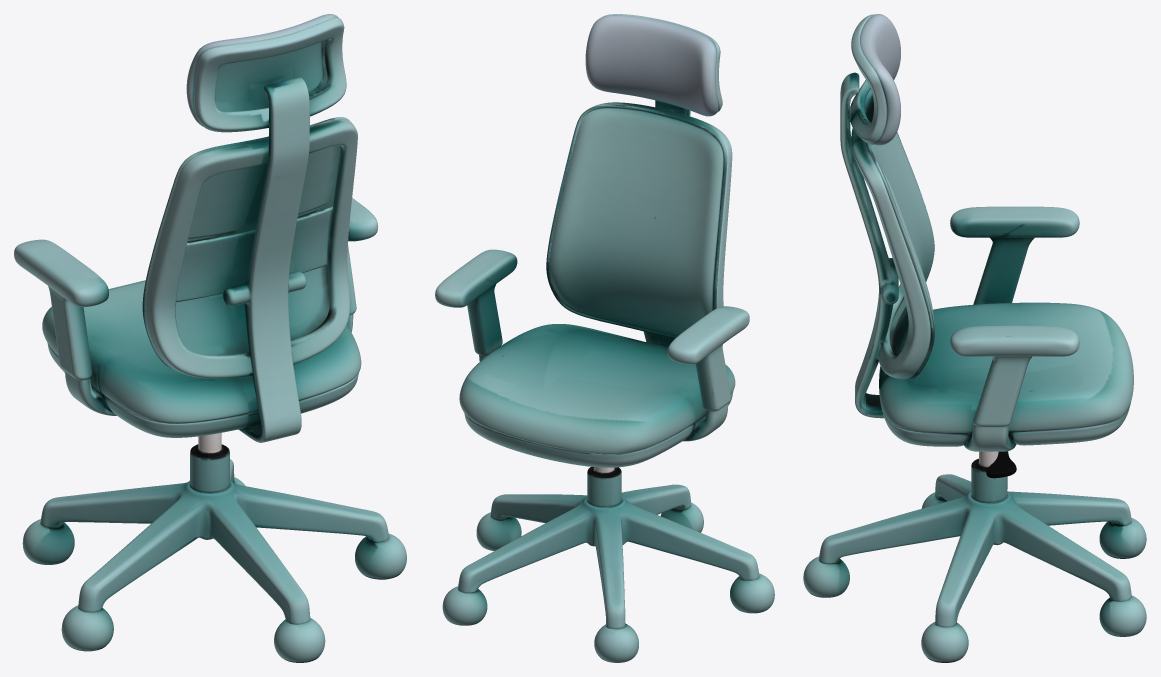
File: SM_F_Chair_01.glb
3 views of the same model, side by side, from view 1: azimuth 30°, elevation 25°; view 2: azimuth 150°, elevation 25°; view 3: azimuth 270°, elevation 25° (orthographic). The views are drawn at different scales.
Parts seen in each view (by area): view 1: SM_F_Chair_01; view 2: SM_F_Chair_01; view 3: SM_F_Chair_01.
Boxes of the visible parts, bbox=[...] form: SM_F_Chair_01: bbox=[14, 14, 406, 662]; SM_F_Chair_01: bbox=[435, 14, 774, 662]; SM_F_Chair_01: bbox=[803, 14, 1146, 662].
Bounding box in the file's own units: 0.5914 × 1.01 × 0.5721.
1 material, 1 textured.
